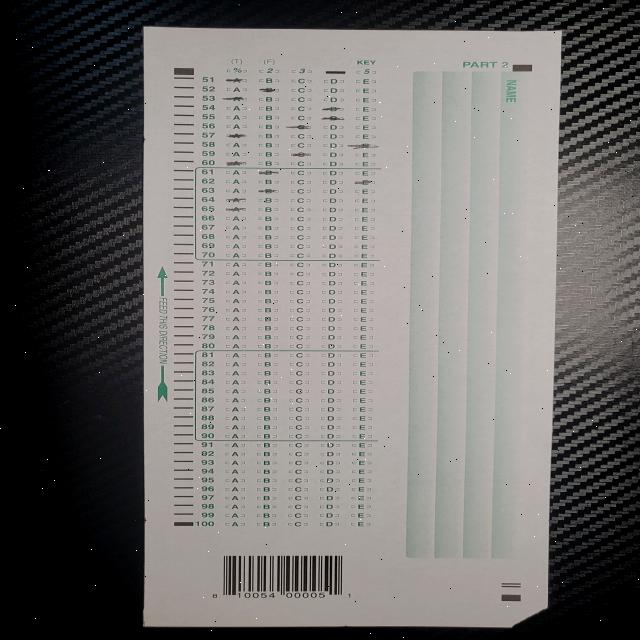scantron_back: (145, 27, 564, 623)
